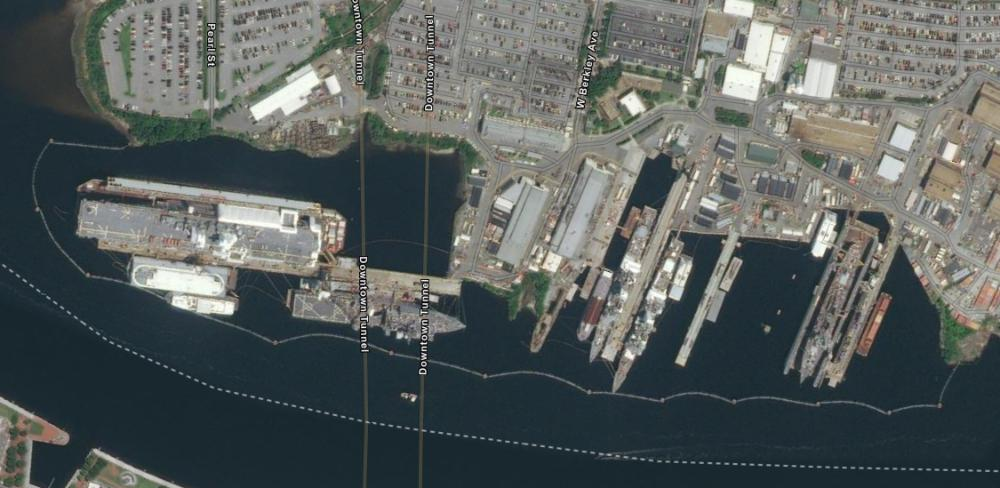cruiser: (612, 237, 686, 395)
pha: (75, 195, 332, 274)
